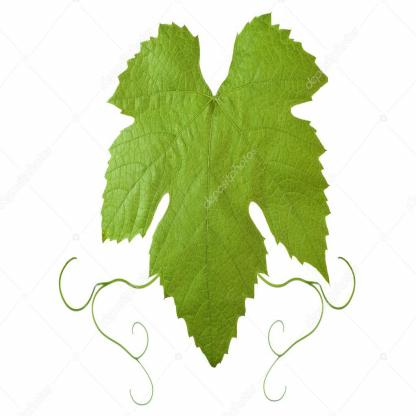grape leaf: (93, 7, 337, 368)
